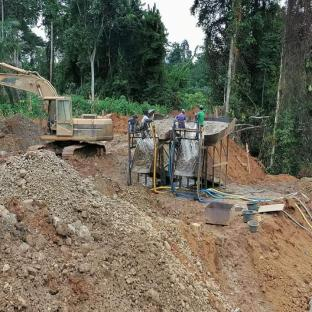ExcavationMachinery: (0, 55, 114, 161)
ProcessingEquipment: (171, 106, 238, 193), (126, 107, 174, 189)
